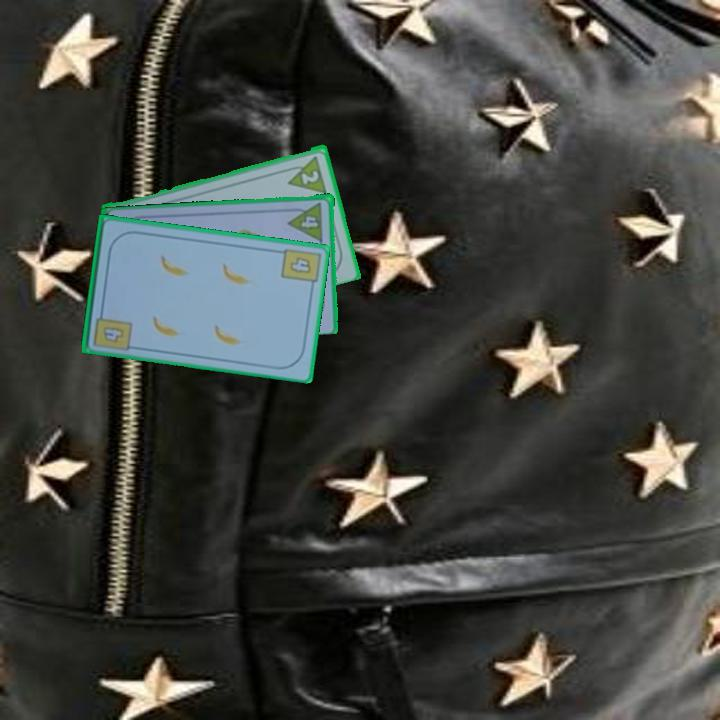2p: (282, 152, 329, 195)
4b: (278, 245, 322, 292), (100, 322, 127, 345)
4p: (285, 199, 326, 243)
